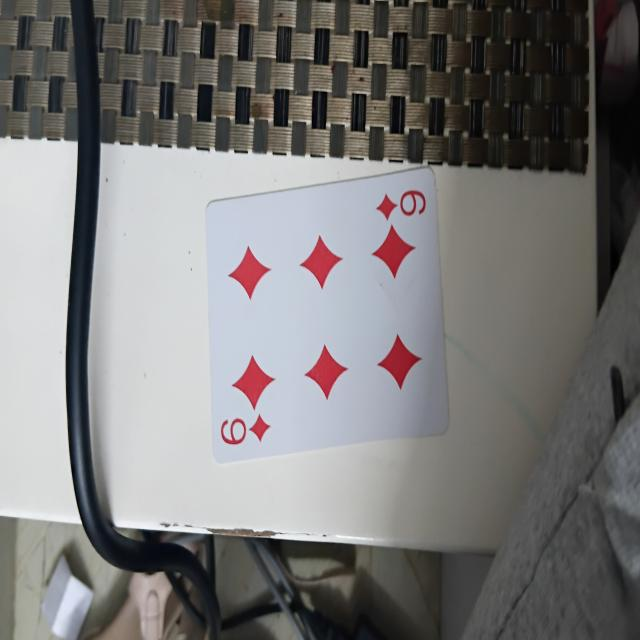6D: (209, 180, 432, 456)
